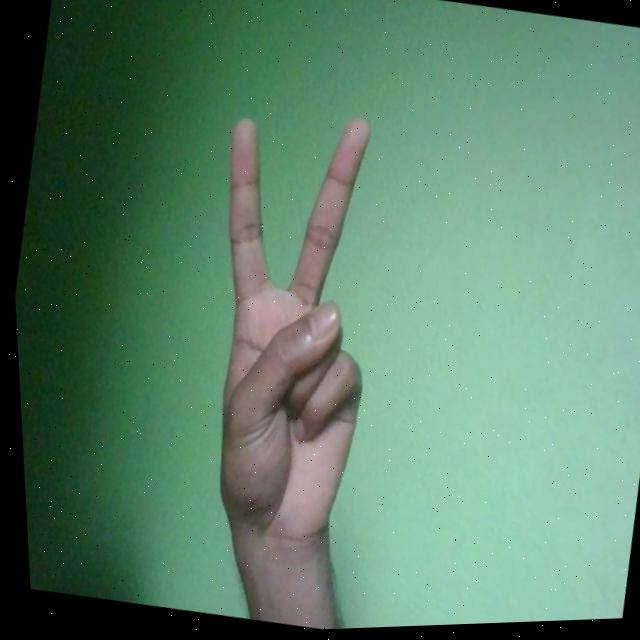Peace: (158, 97, 413, 565)
